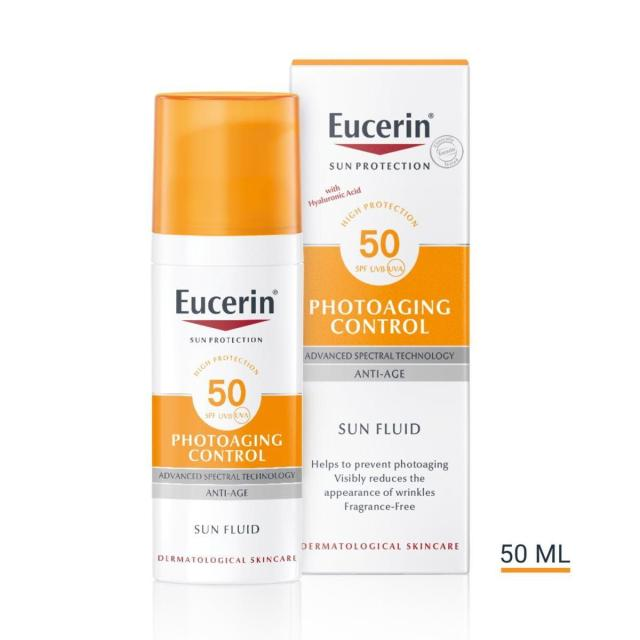cosmotic: (307, 73, 469, 567)
lotion-moisture: (155, 100, 304, 578)
